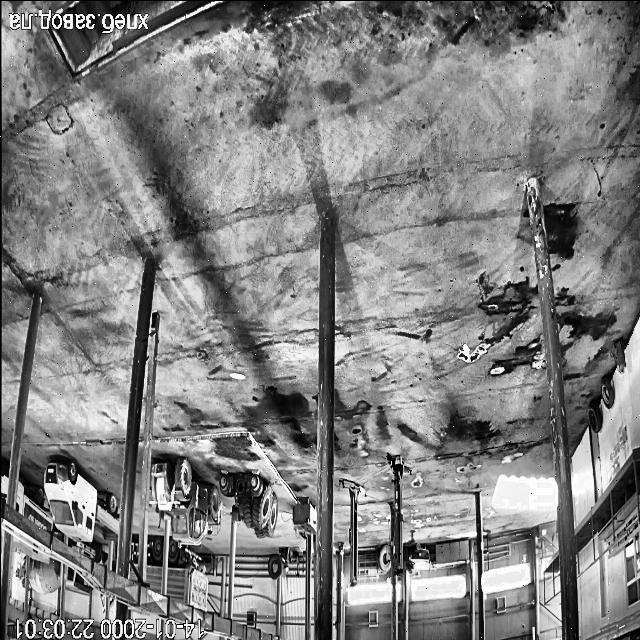car lift: (387, 454, 410, 573), (340, 479, 365, 587)
fire extinguisher: (614, 340, 624, 372)
tractor: (151, 458, 220, 544), (220, 474, 278, 538)
truck: (44, 461, 119, 540), (167, 540, 208, 612), (16, 480, 52, 532), (30, 557, 60, 594), (146, 538, 163, 594), (12, 538, 47, 560), (69, 542, 104, 563), (66, 567, 92, 595), (0, 461, 8, 500), (131, 541, 142, 567), (129, 565, 136, 580), (19, 564, 24, 579)
